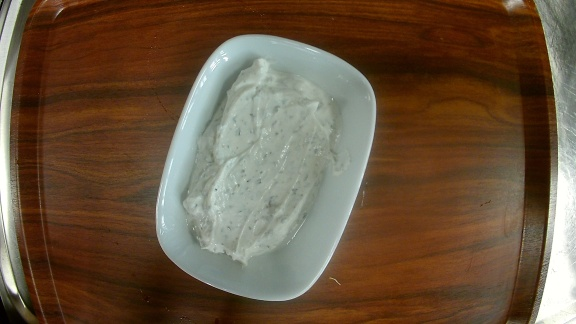haydari: (156, 33, 377, 300)
